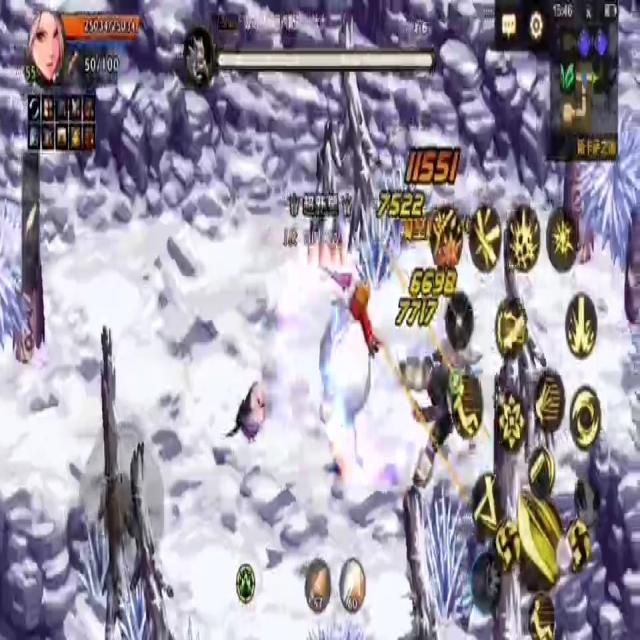player: (319, 269, 371, 447)
